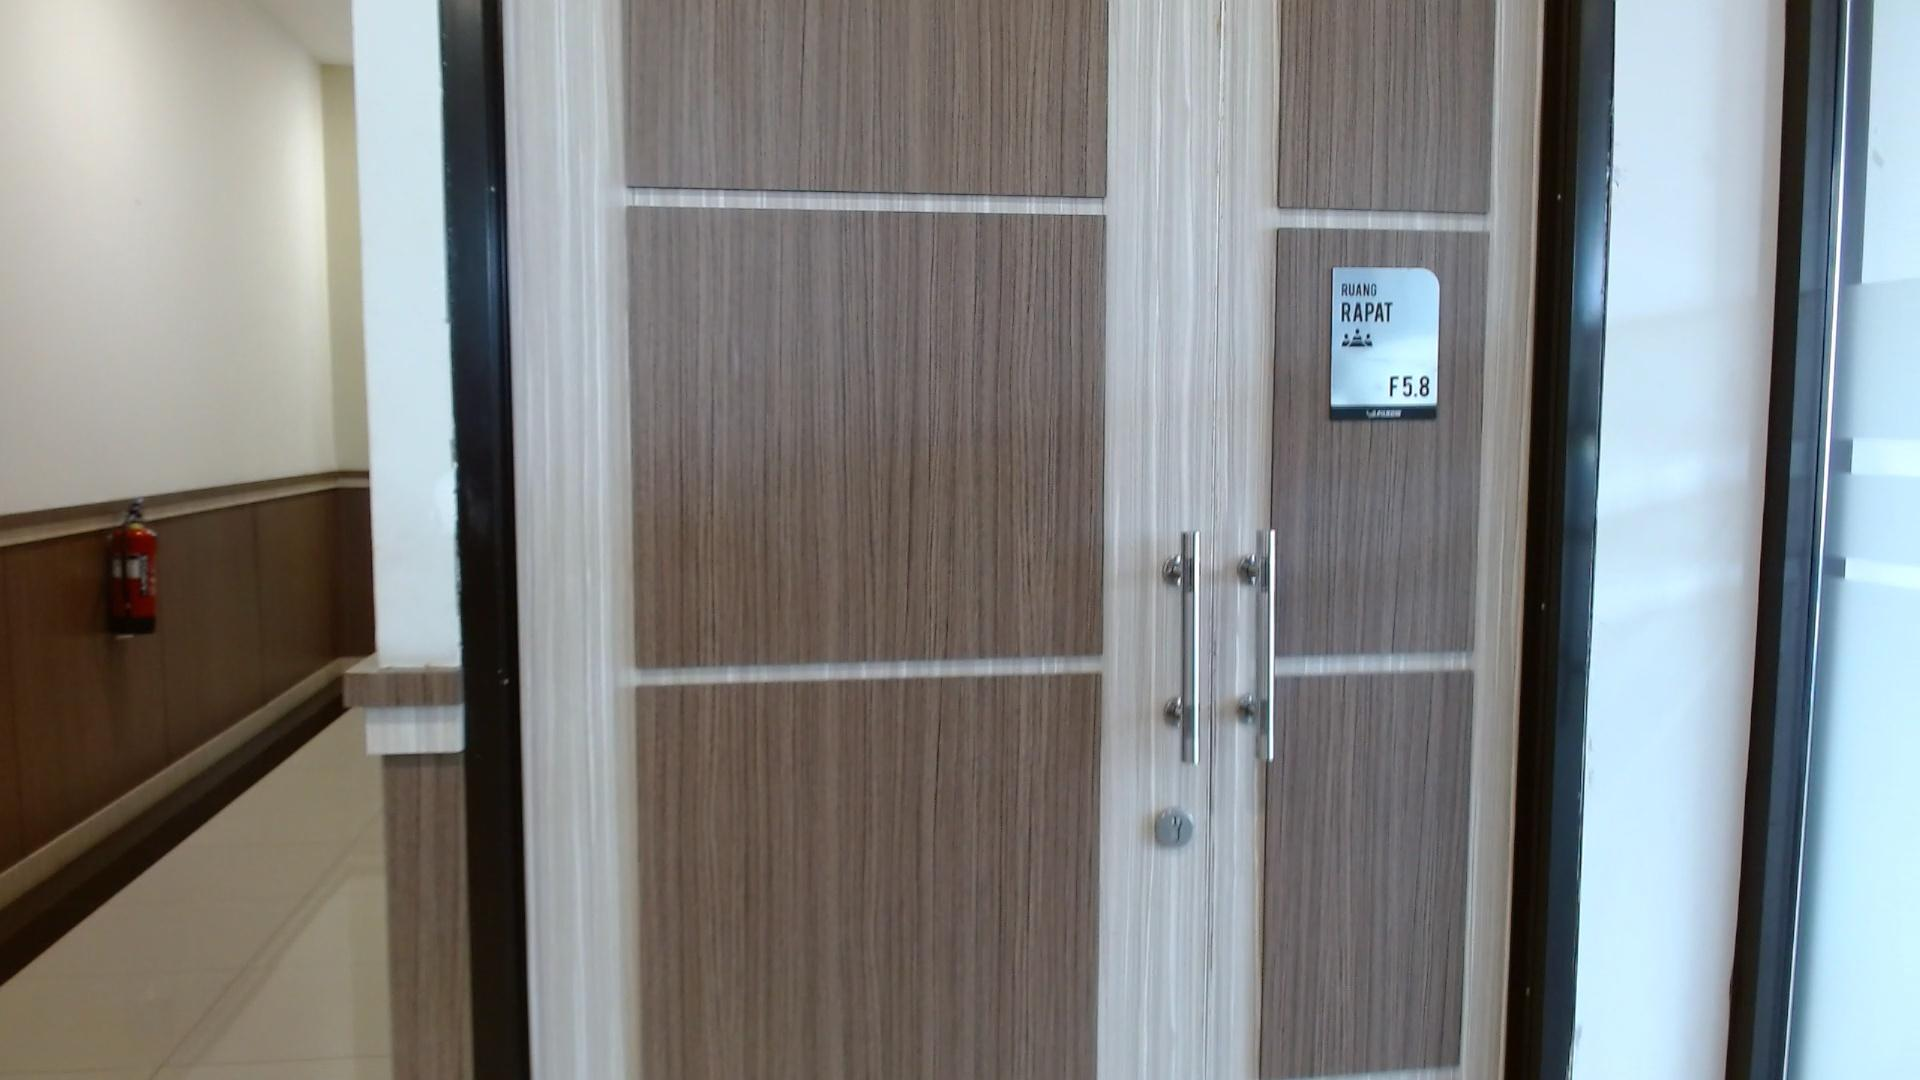plate: (1331, 266, 1441, 422)
